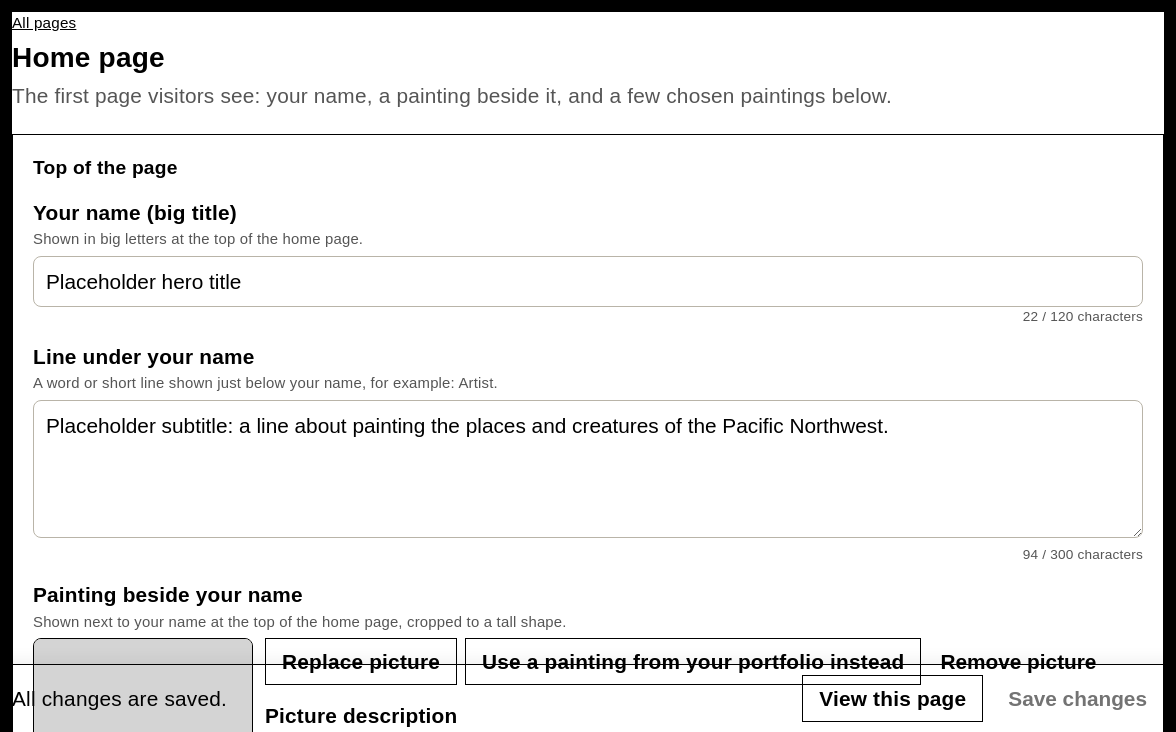
it: page editor › saves only its page with the concurrency token, then reports success
This screenshot has width=1176, height=732.
Expected: the button "Save changes" is disabled, 991,675 -> 1164,722
Replace the text in the field labelled "Your name (big title)" with "Marsh light". click: {"x": 588, "y": 281}
box: 33,256 -> 1143,307
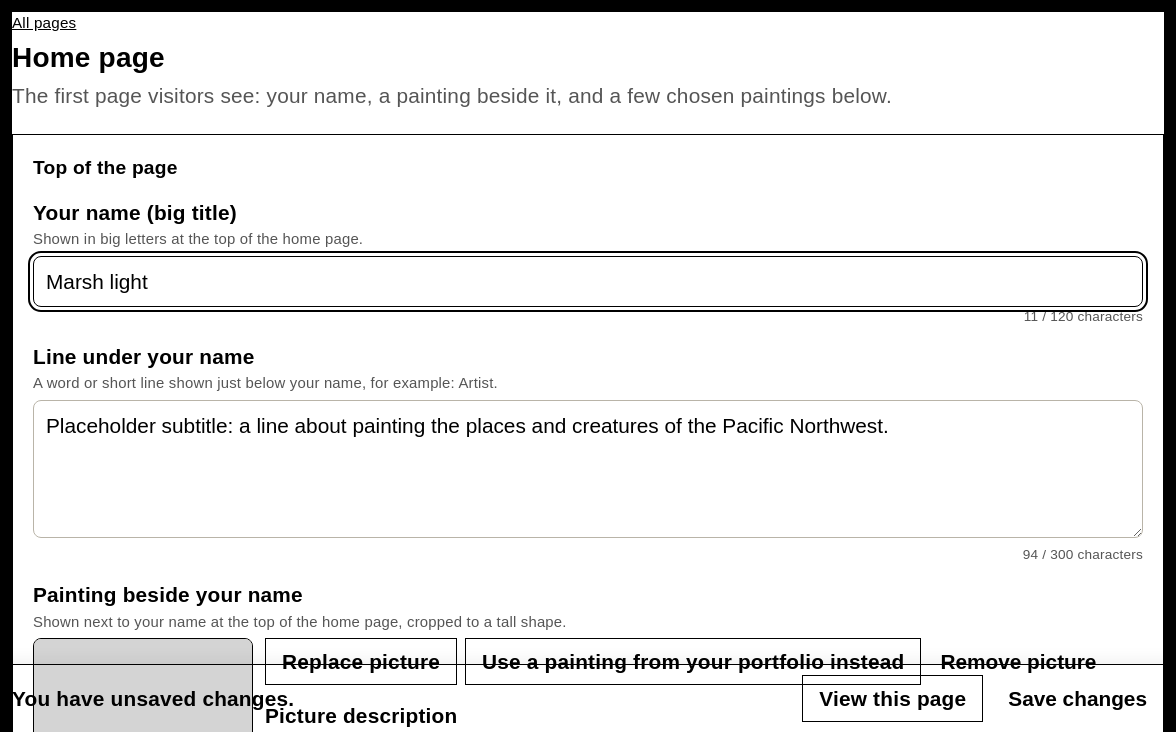
Expected: the message with test id "save-status" reads "You have unsaved changes.", 12,687 -> 294,710
Click the button "Save changes". click: {"x": 1078, "y": 698}
box: 991,675 -> 1164,722
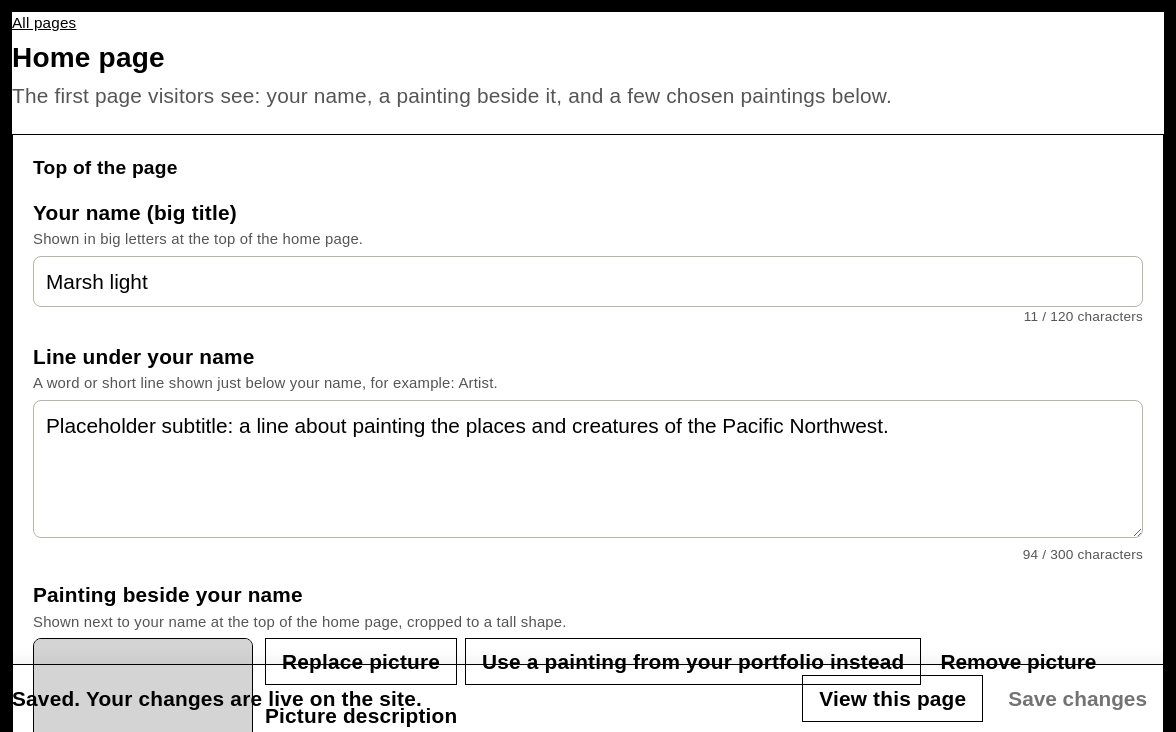
Expected: the message with test id "save-status" reads "Saved. Your changes are live on the site.", 12,687 -> 422,710
Expected: the button "Save changes" is disabled, 991,675 -> 1164,722
